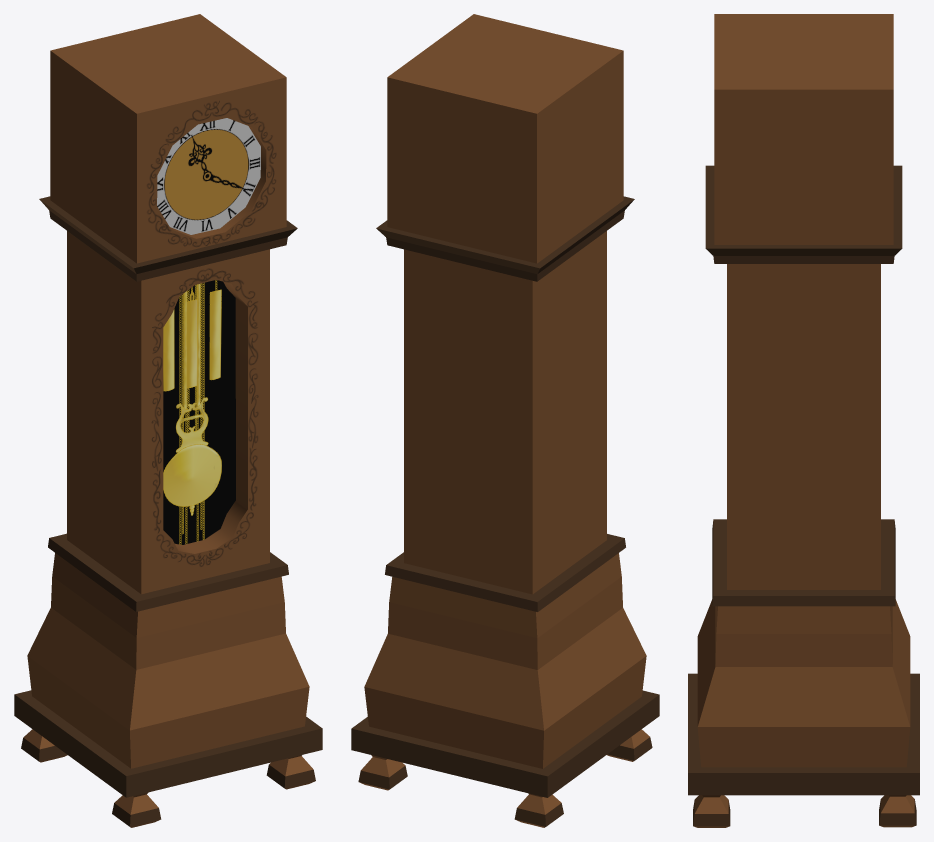
Rendered from GrandfartherClock_ASS.fbx.
The picture shows the model from 3 angles, left to right: view 1: azimuth 30°, elevation 25°; view 2: azimuth 150°, elevation 25°; view 3: azimuth 270°, elevation 25°; orthographic projection. The views are drawn at different scales.
Parts seen in each view (by area): view 1: GRNDCLOK_MESH; view 2: GRNDCLOK_MESH; view 3: GRNDCLOK_MESH.
Boxes of the visible parts, left/top/right/bottom form: GRNDCLOK_MESH: left=14, top=14, right=322, bottom=827; GRNDCLOK_MESH: left=351, top=14, right=659, bottom=827; GRNDCLOK_MESH: left=688, top=14, right=919, bottom=827.
Bounding box in the file's own units: 55.29 × 190 × 54.6.
1 material, 1 textured.
